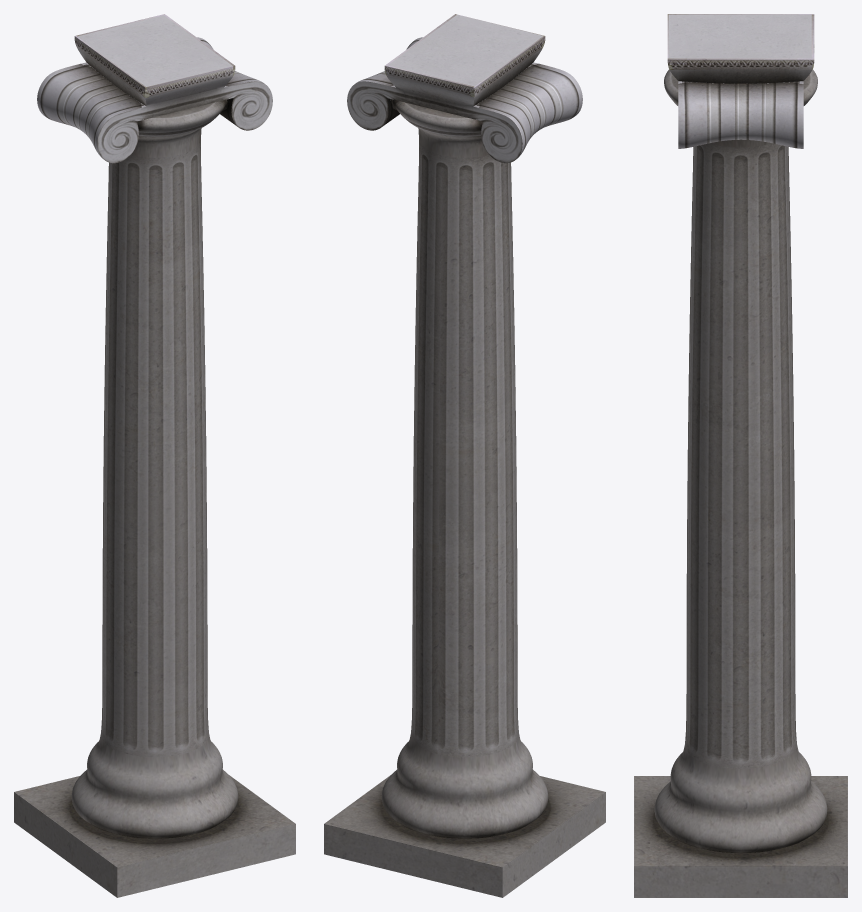
The model's file is coolumn.glb.
3 renders of one model, left to right at view 1: azimuth 30°, elevation 25°; view 2: azimuth 150°, elevation 25°; view 3: azimuth 270°, elevation 25°, orthographic. The views are drawn at different scales.
Parts seen in each view (by area): view 1: 10413_Ionic_ Column_v01_iterations-2; view 2: 10413_Ionic_ Column_v01_iterations-2; view 3: 10413_Ionic_ Column_v01_iterations-2.
Part boxes in pixels (x1,y1,x2,y2): 10413_Ionic_ Column_v01_iterations-2: (14,14,295,897); 10413_Ionic_ Column_v01_iterations-2: (324,14,605,897); 10413_Ionic_ Column_v01_iterations-2: (634,14,847,897).
Size of the model in its own units: 4.65 by 19.56 by 4.65.
1 material, 1 textured.
